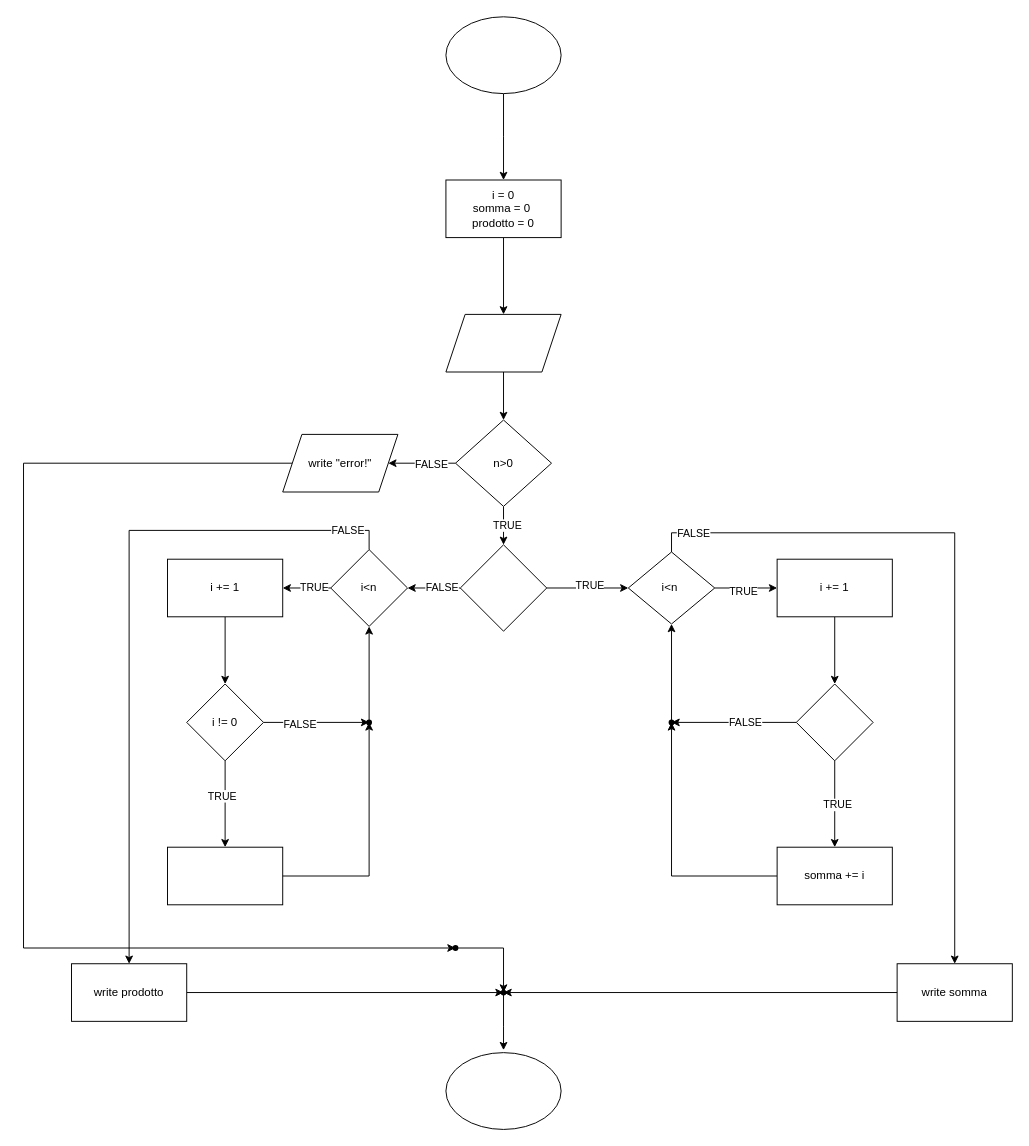
The diagram is 1029 pixels wide and 1146 high, and some of its shapes have lost their labels. Here are the shapes that lost their labels. From the top down, the centre of each, then its label:
(x=503, y=55): START
(x=503, y=342): read n
(x=503, y=587): n%2==0
(x=834, y=722): i%4 ==0
(x=225, y=875): prodotto * = i
(x=503, y=1090): END
